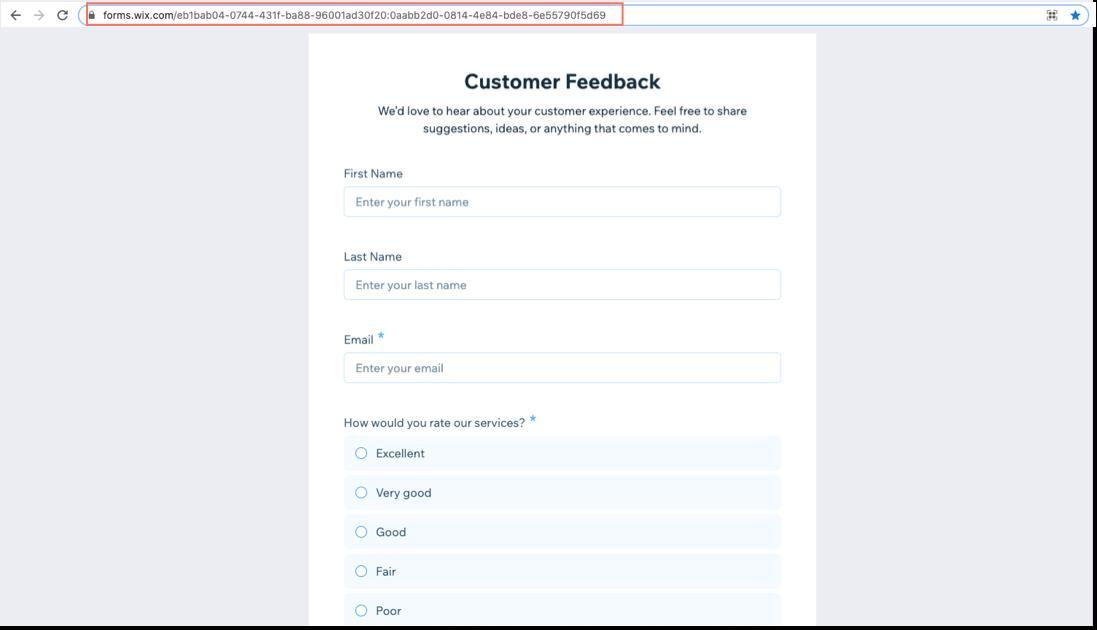input: (342, 267, 784, 303), (341, 185, 784, 220), (342, 351, 781, 386)
label: (376, 104, 749, 137), (464, 71, 663, 93), (343, 416, 539, 430), (344, 168, 404, 182), (376, 486, 433, 500), (376, 447, 426, 462), (343, 252, 406, 263), (344, 333, 386, 346), (376, 605, 405, 617), (376, 528, 409, 538), (376, 565, 397, 579)
radio: (356, 605, 370, 618), (356, 486, 369, 500), (355, 447, 369, 460), (355, 566, 368, 579), (355, 526, 369, 538)
